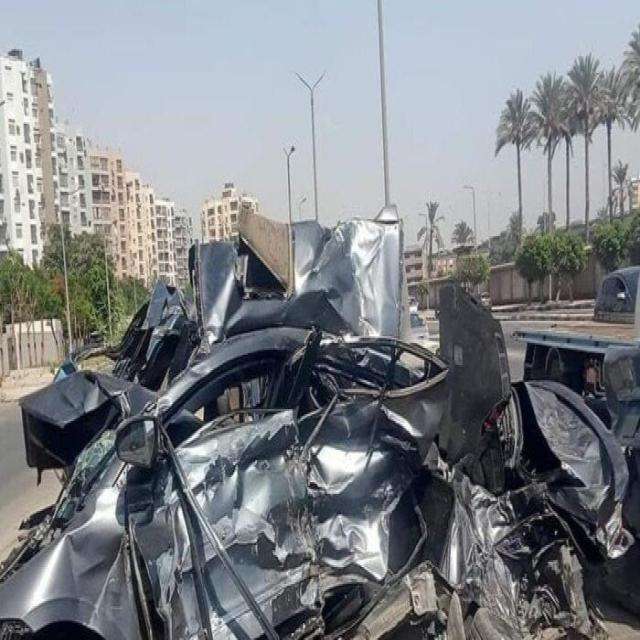Accident: (4, 190, 639, 640)
